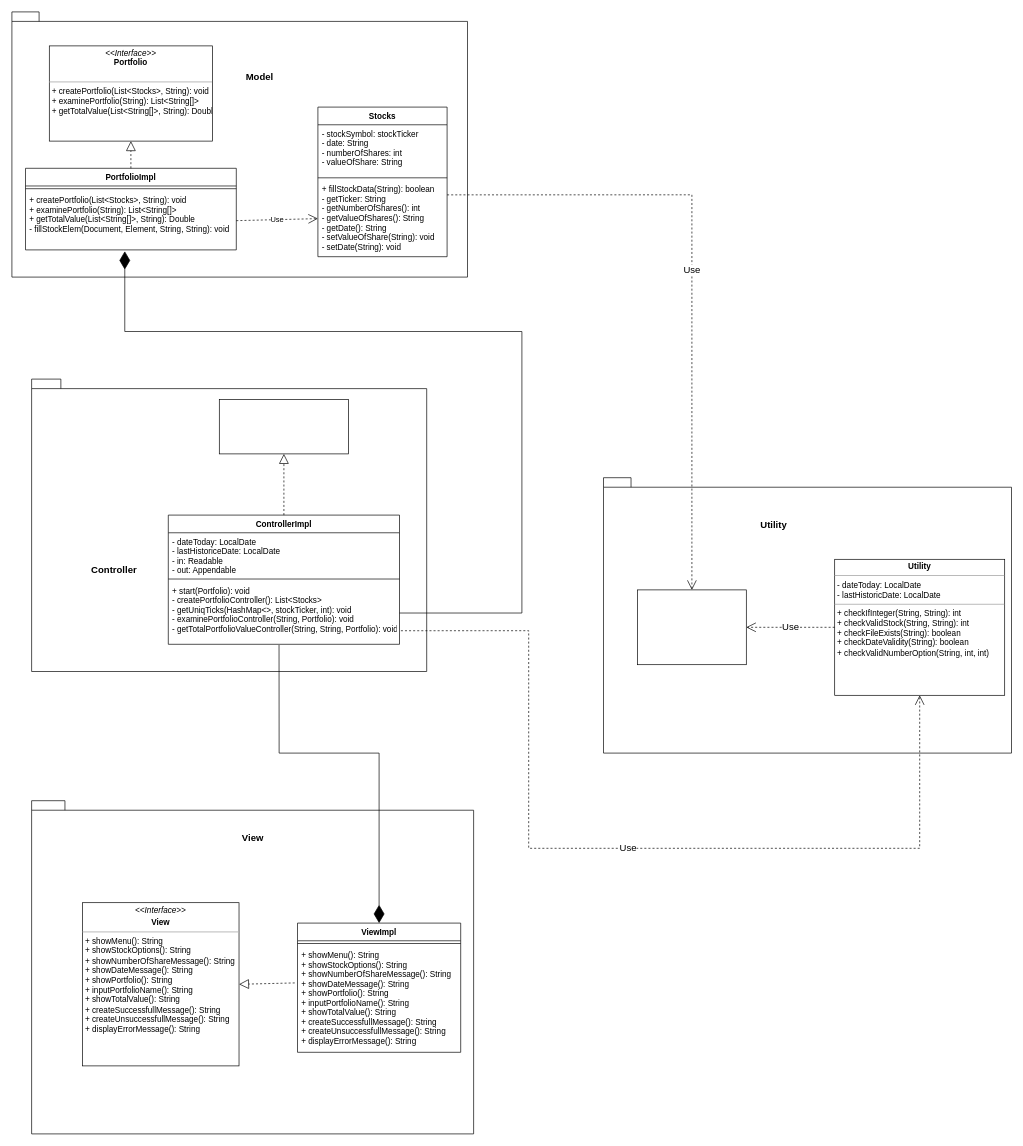
This 1023x1146 diagram has some shape labels left out. The shapes that lost their labels are listed below. From the top down, each one's centre as x and y in pixels, then its label:
the point at 283,426: <<Interface>> Controller + start(Portfolio): void
the point at 691,627: ReadCSVs - path: String + getDataByDate(): String[]
